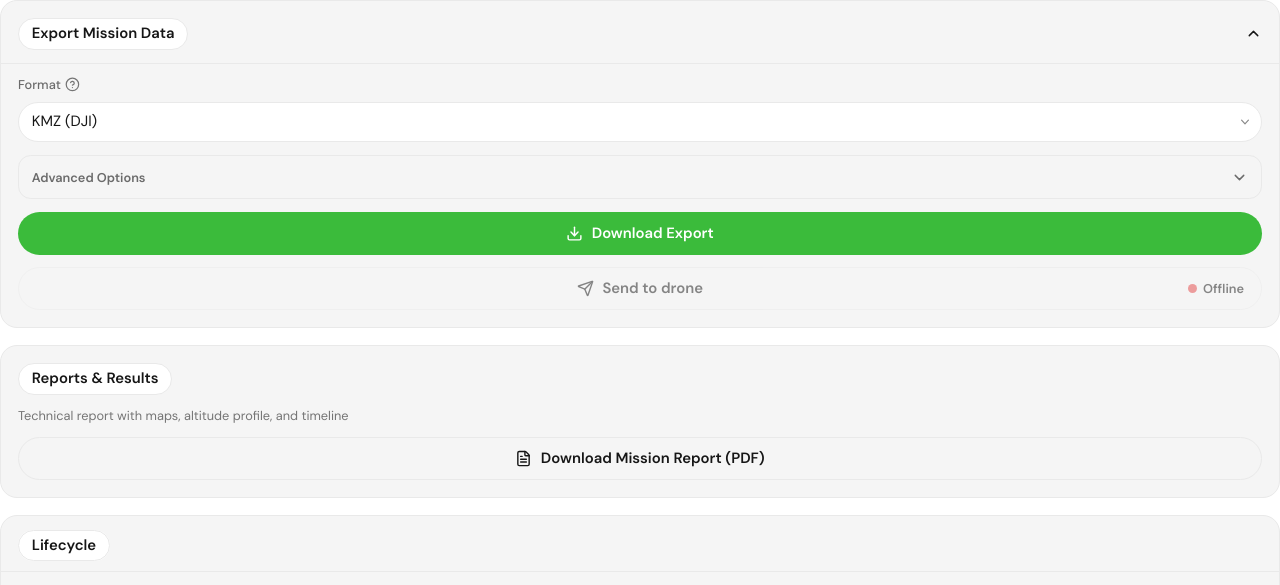
Scenario: ExportPanel - dji heading mode picker › does not render the picker when no DJI WPMZ format is selected
Click the button with test id "advanced-options-toggle" at (89, 177), box [32,168,1248,186]
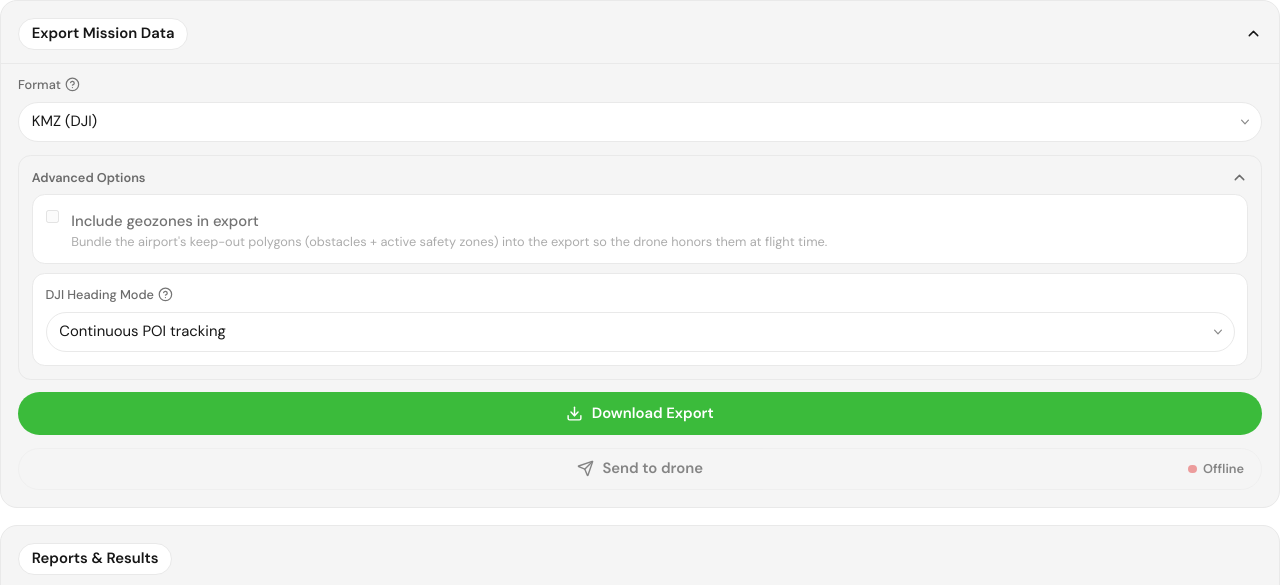
Select "JSON" in the dropdown with test id "format-select" at (640, 122), box [18,102,1262,142]
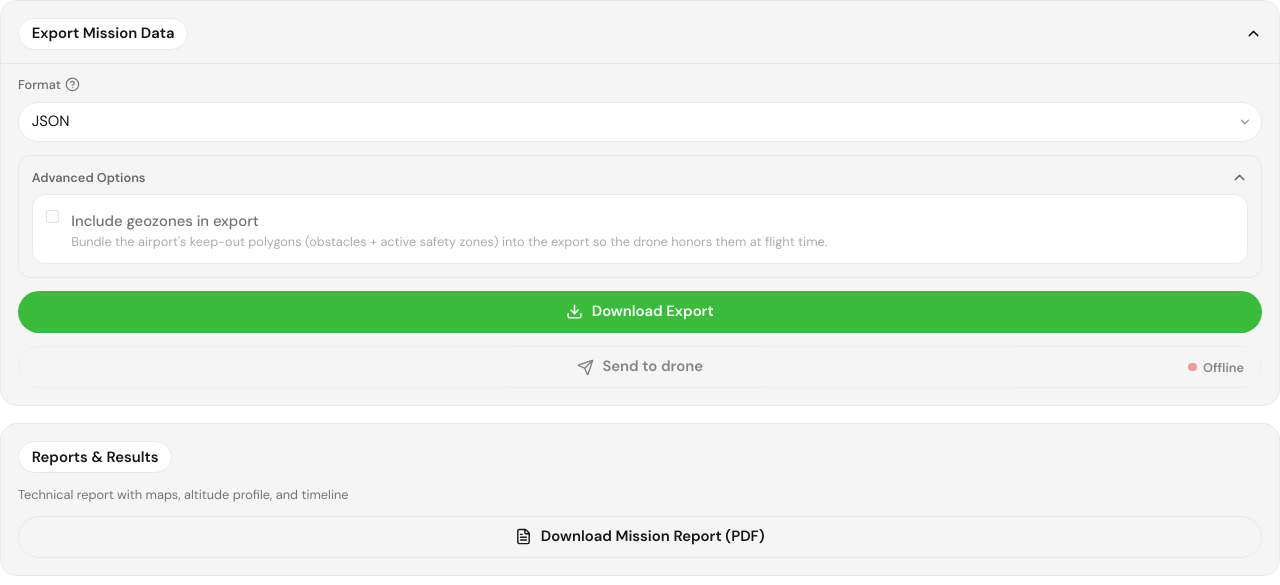
expect the dropdown with test id "dji-heading-mode-select" is gone: met
